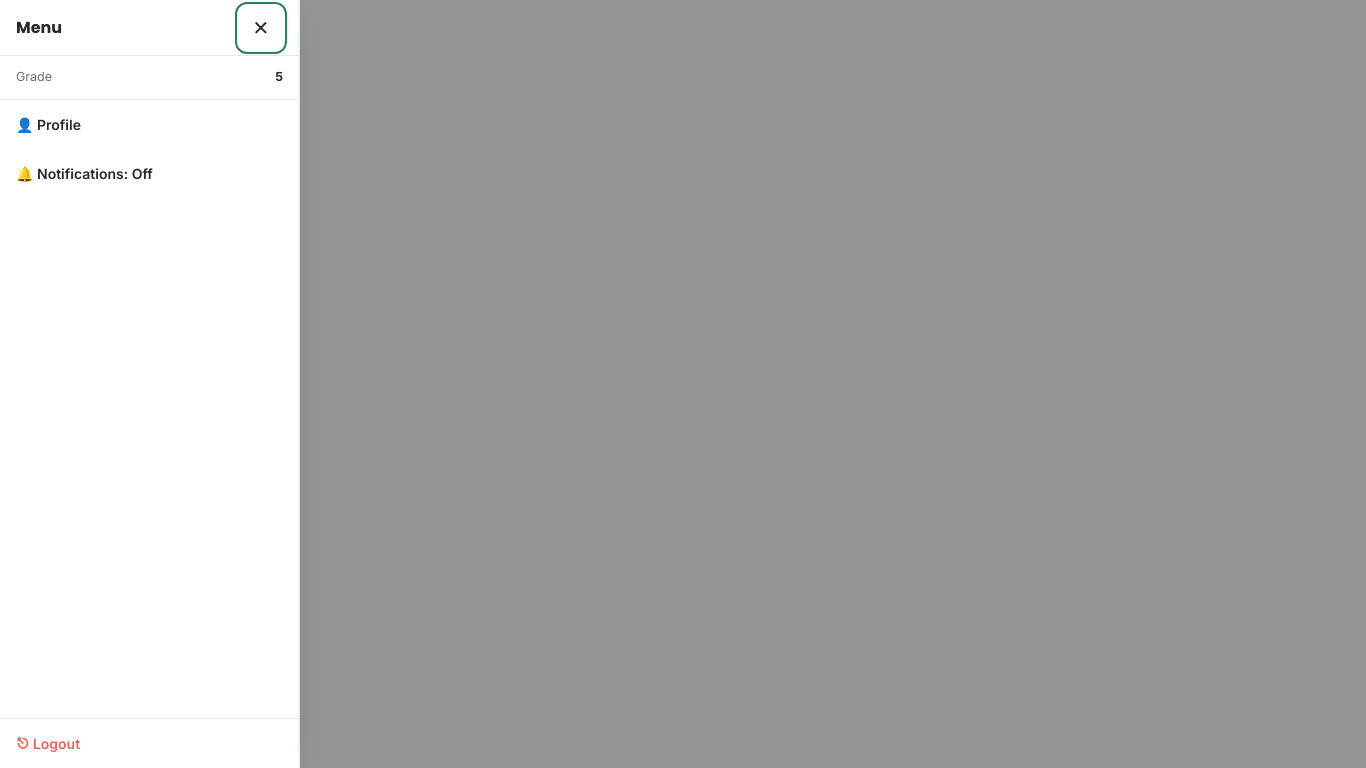
Scenario: HamburgerDrawer: existing behaviour unchanged › Notifications toggles on/off as before (install available: false)
The image size is (1366, 768).
Step 1. Click the button "🔔 Notifications: Off" → (150, 173), box [0, 149, 299, 198]
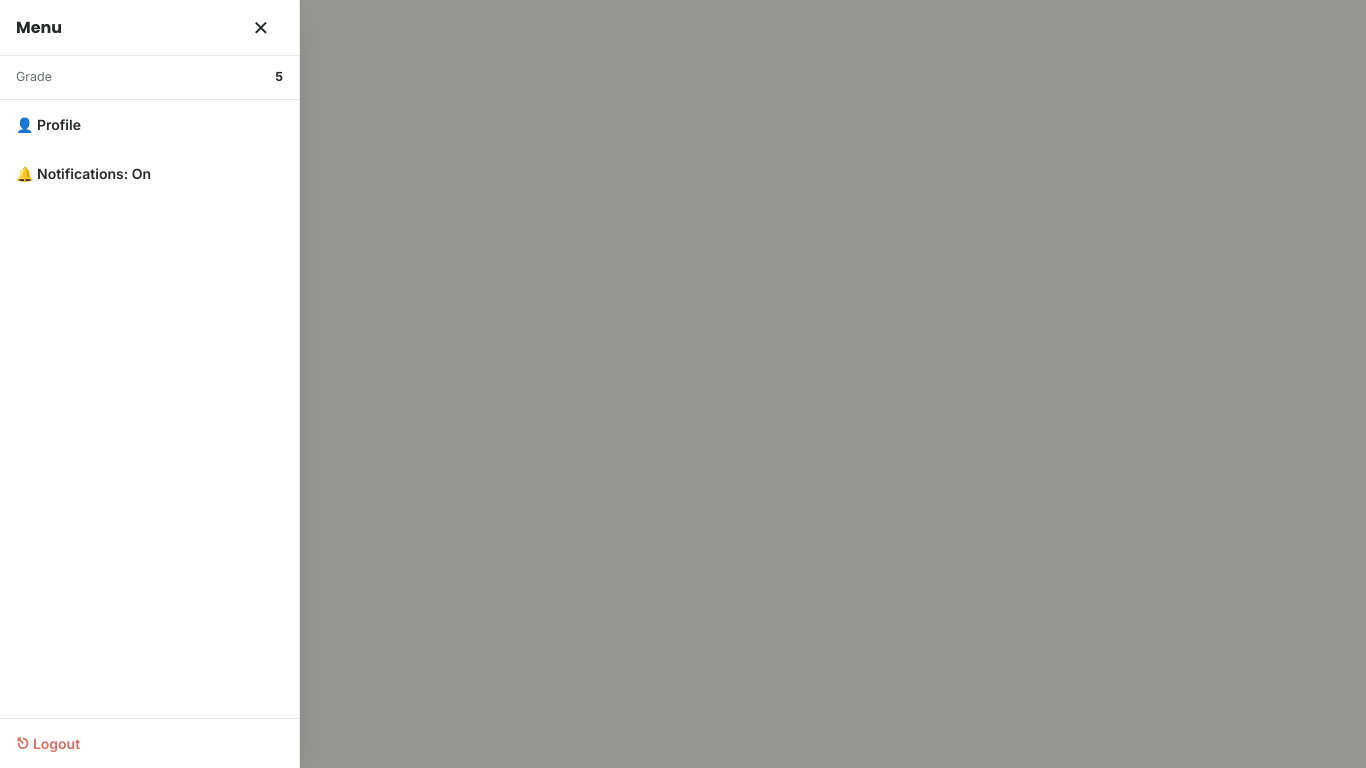
Result: the button "🔔 Notifications: On" is shown
Step 2. Click the button "🔔 Notifications: On" → (150, 173), box [0, 149, 299, 198]
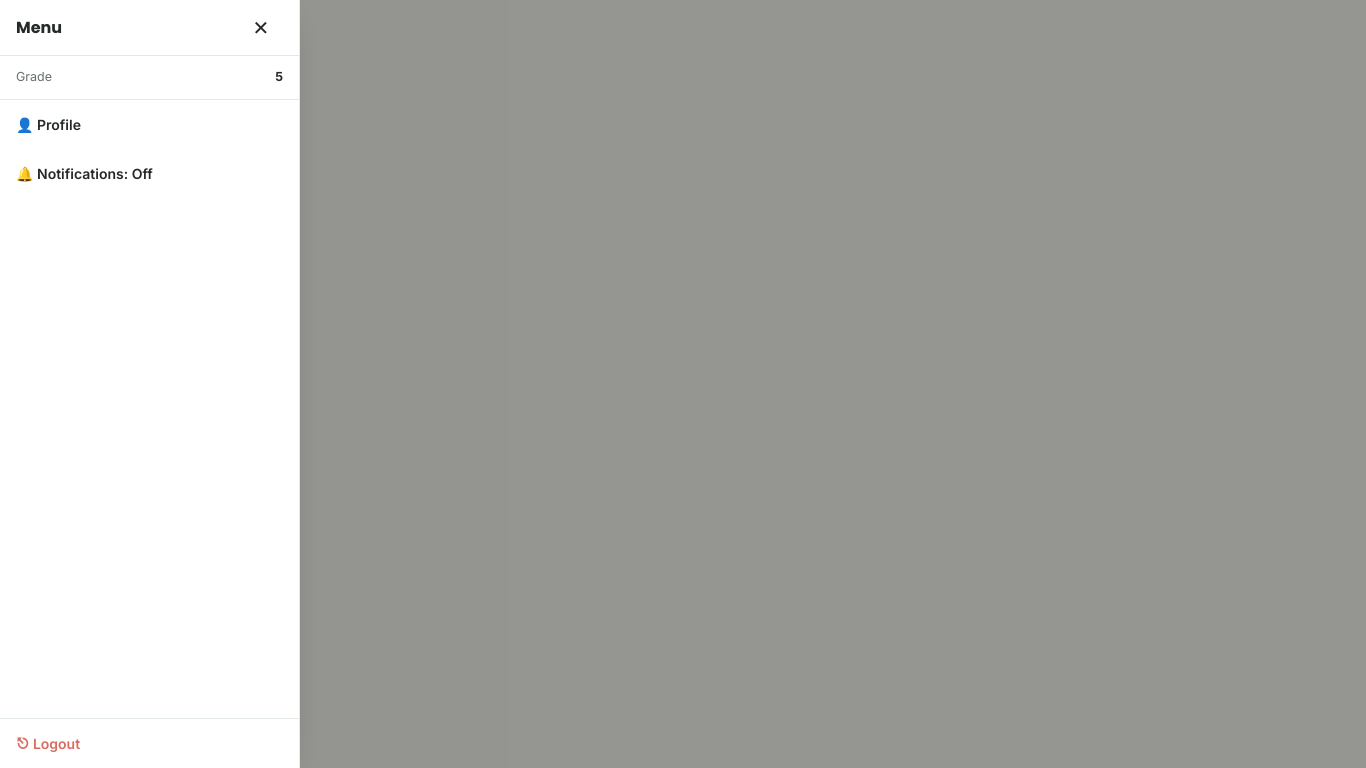
Result: the button "🔔 Notifications: Off" is shown at [0, 149, 299, 198]
